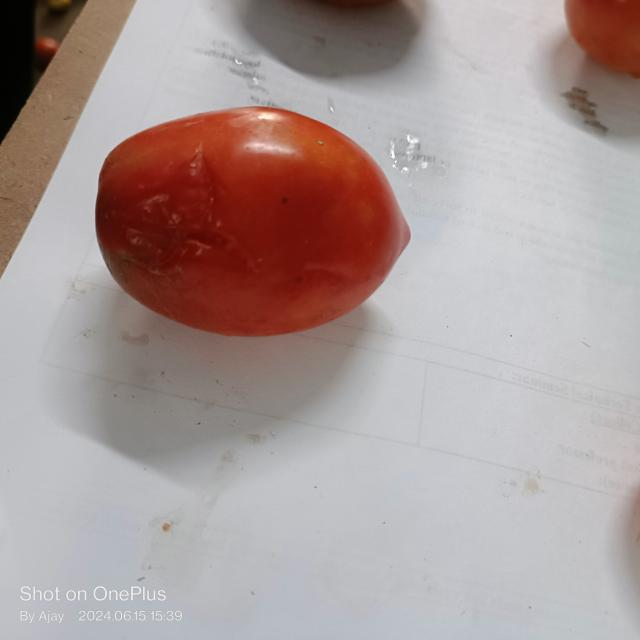Botrytis: (111, 144, 223, 276)
